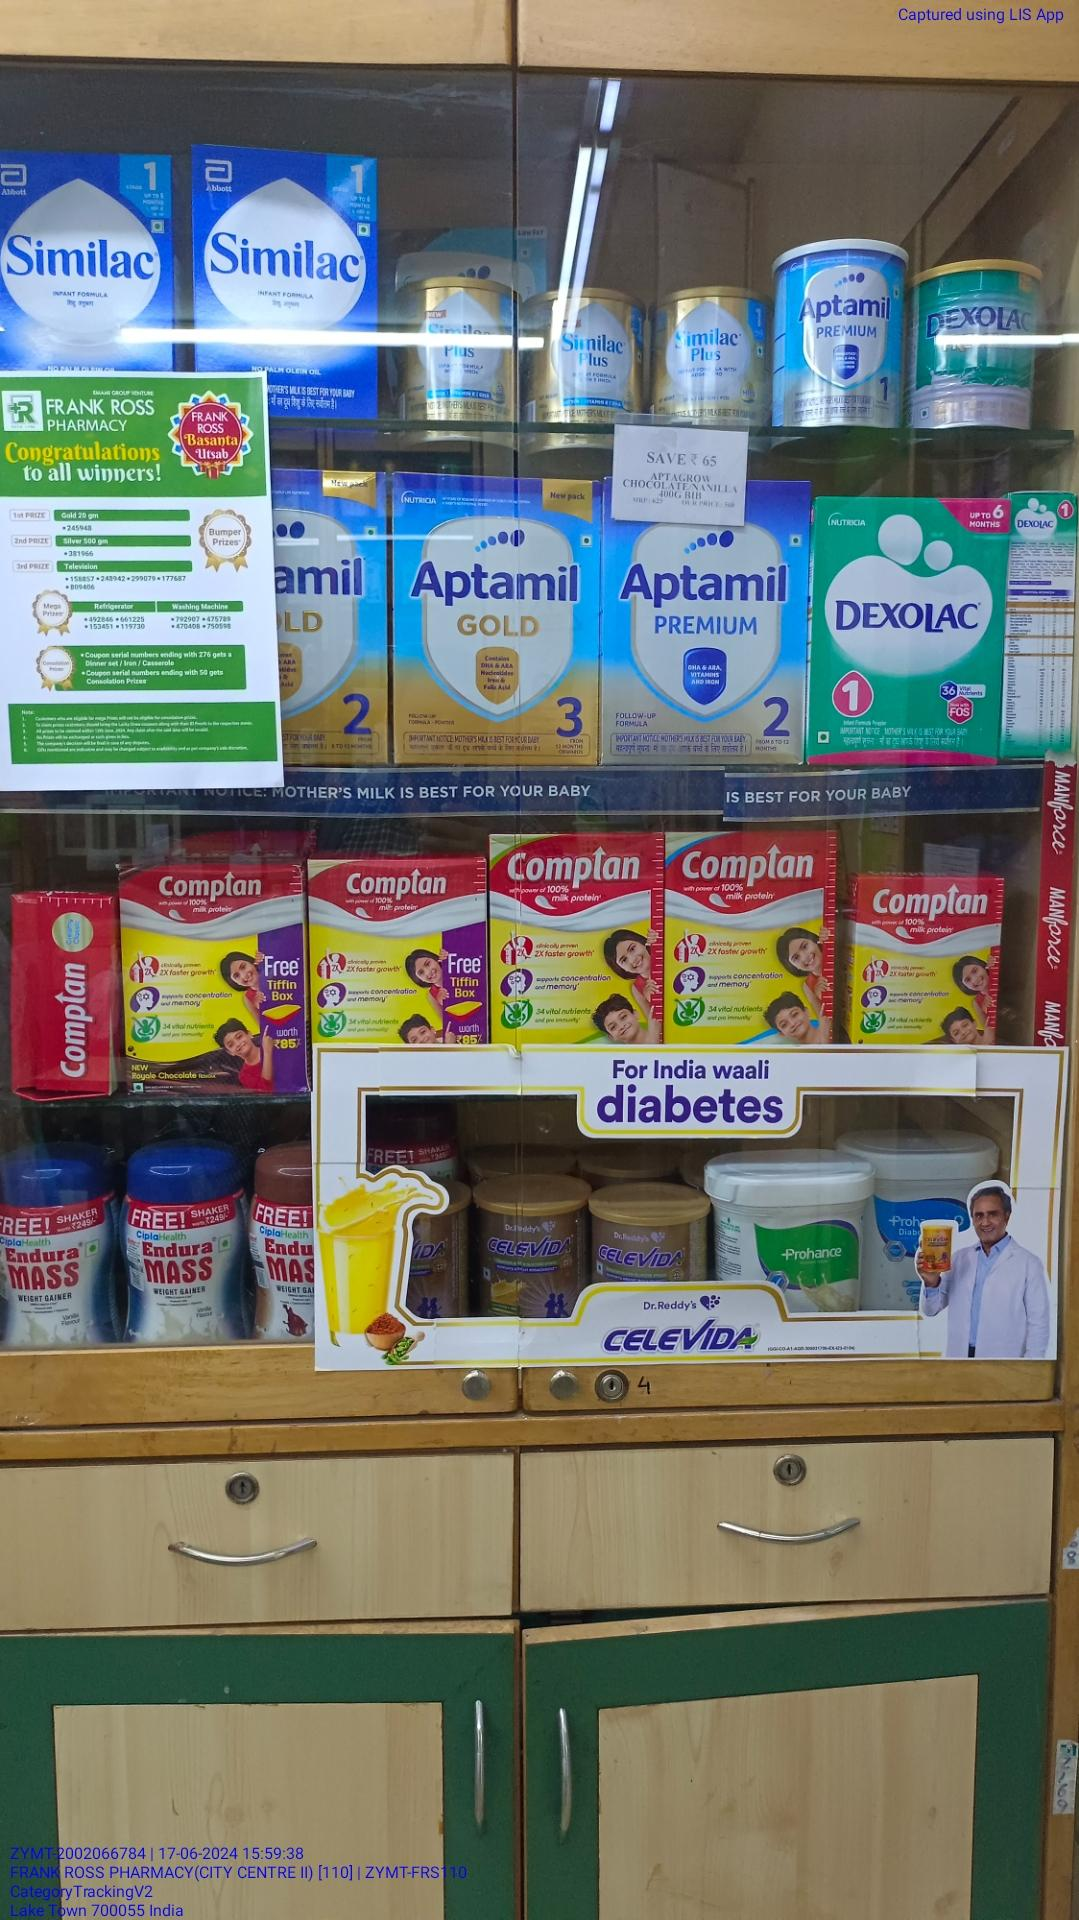COMPLAN_CHOCOLATE_200_GMS_PACK: (852, 872, 999, 1046)
COMPLAN_CHOCOLATE_500_GMS_PACK: (117, 865, 310, 1091)
COMPLAN_CREAMY_CLASSIC_500_G_PACK: (669, 831, 834, 1042)
COMPLAN_KESAR_BADAM_500_GMS_PACK: (315, 861, 485, 1042)
COMPLAN_PISTA_BADAM_500_GMS_PACK: (492, 831, 662, 1043)
